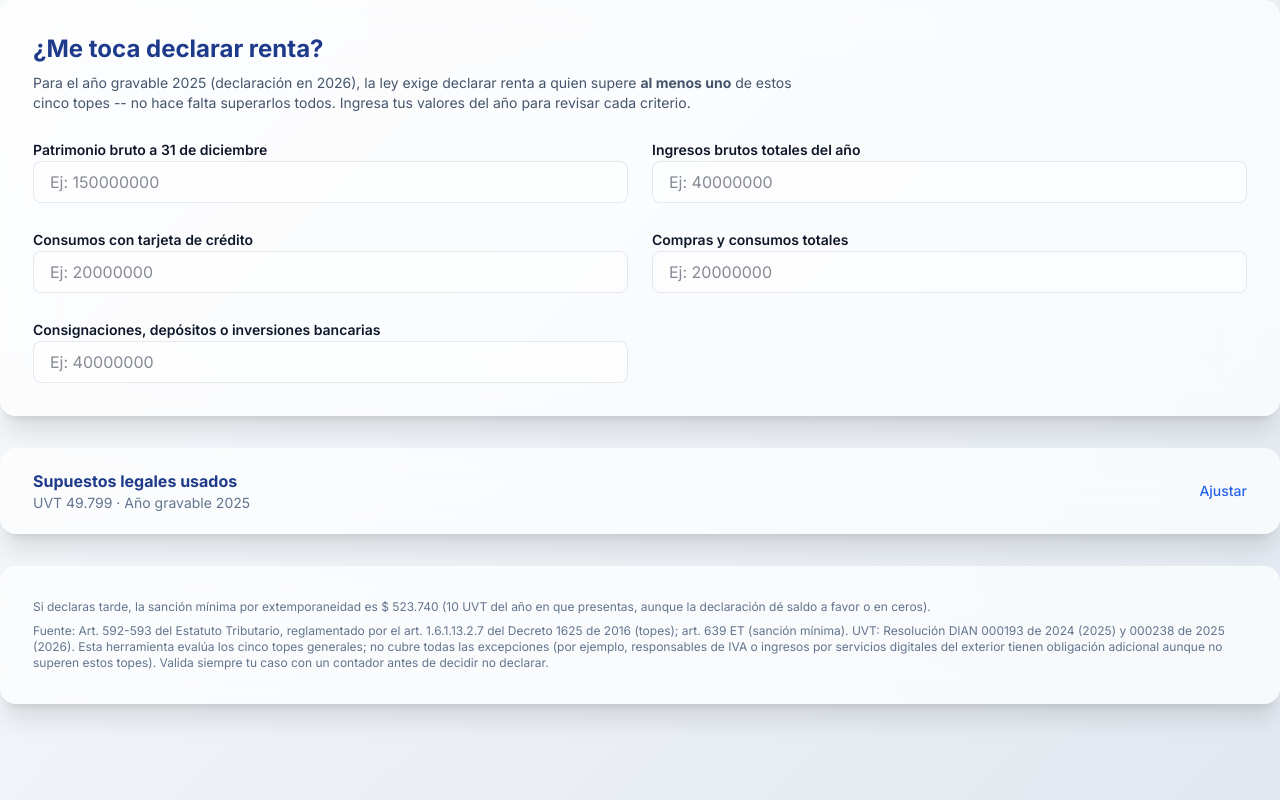
Test: DeclararRenta › ajustar supuestos legales permite cambiar la UVT y recalcula el resultado
Click the button "Ajustar".
click(135, 481)  # box [1,449,1279,533]
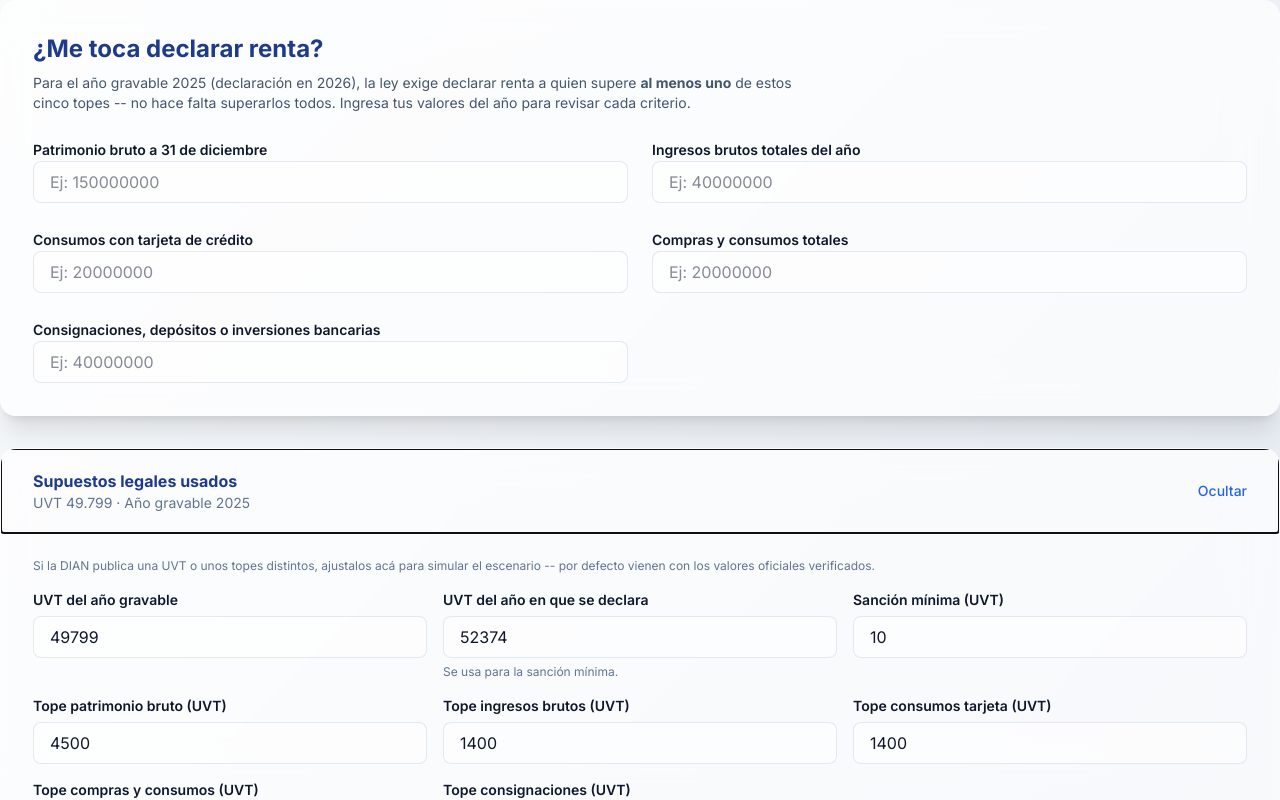
Replace the text in the number field labelled "UVT del año gravable" with "1000" at (230, 637), box [33,616,427,658]
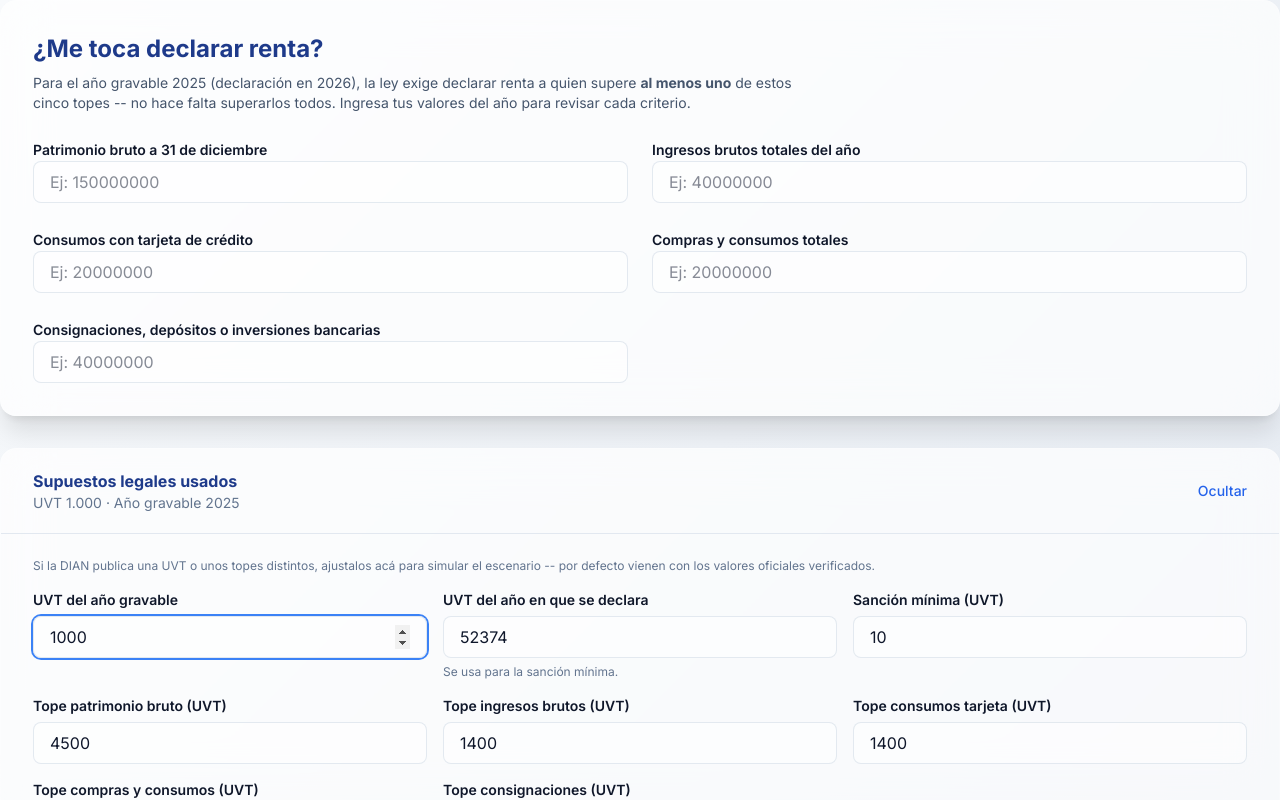
Type "5000000" into the number field labelled "Patrimonio bruto a 31 de diciembre".
click(330, 182); type("5000000")  # box [33,161,628,203]
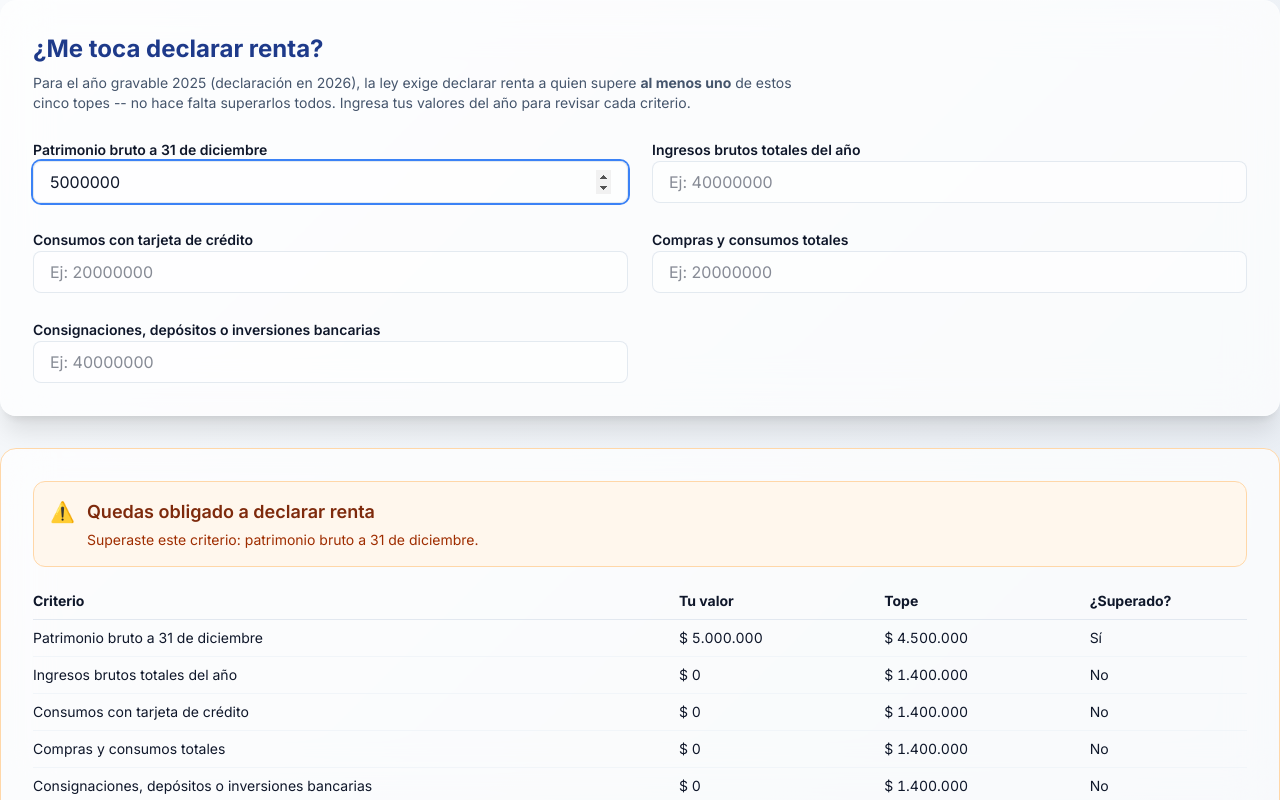
Expected: the text "Quedas obligado a declarar renta" is shown, [87,501,375,522]
